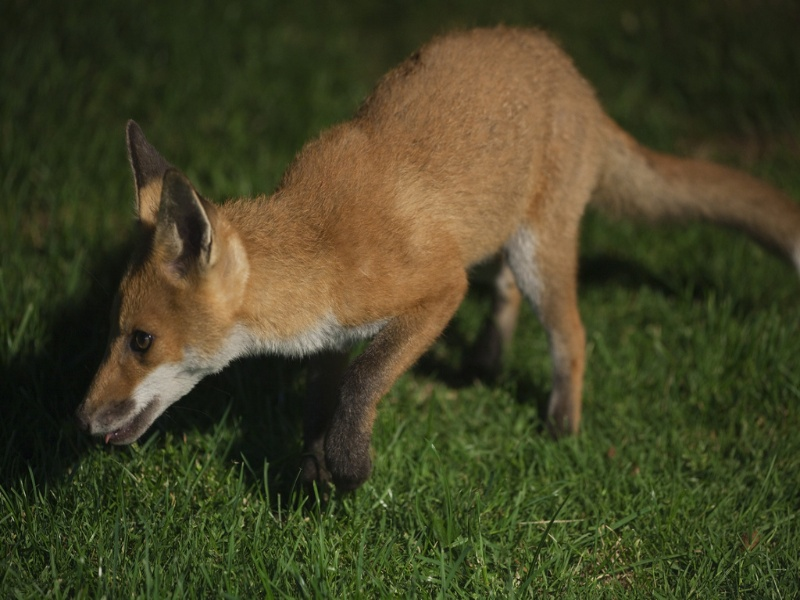fox: (66, 21, 800, 507)
